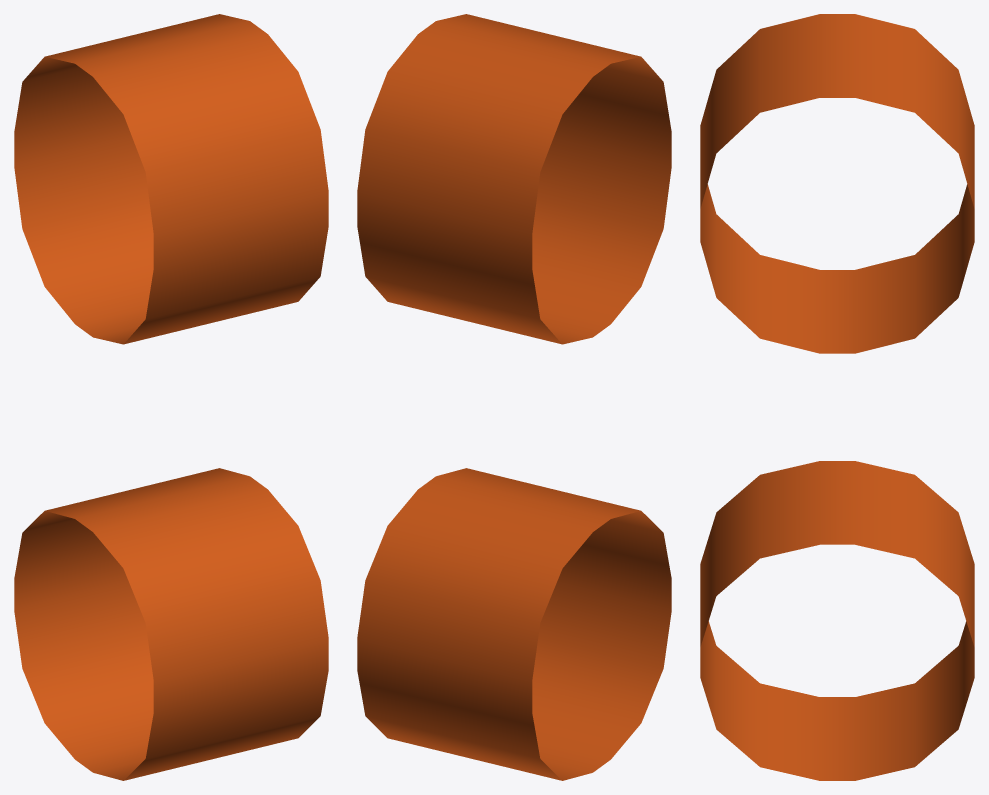
File: LaptopKeyboard_BronzeLaptop_0.dae
3 renders of one model, left to right at view 1: azimuth 30°, elevation 25°; view 2: azimuth 150°, elevation 25°; view 3: azimuth 270°, elevation 25°, orthographic.
Visible parts, largest first — view 1: LaptopKeyboard_BronzeLaptop_0; view 2: LaptopKeyboard_BronzeLaptop_0; view 3: LaptopKeyboard_BronzeLaptop_0.
Part boxes in pixels (x1,y1,x2,y2): LaptopKeyboard_BronzeLaptop_0: [14, 14, 328, 780]; LaptopKeyboard_BronzeLaptop_0: [357, 14, 671, 780]; LaptopKeyboard_BronzeLaptop_0: [700, 14, 974, 780].
Bounding box in the file's own units: 0.00352 × 0.0134 × 0.00487.
